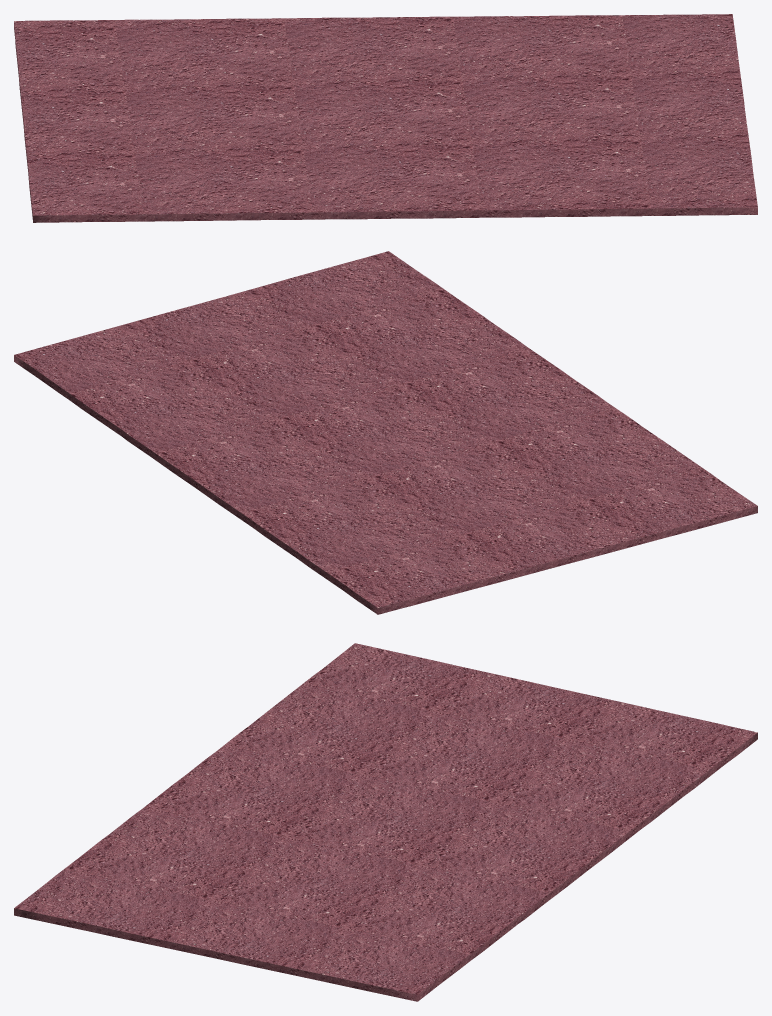
The picture shows the model from 3 angles, top to bottom: view 1: azimuth 30°, elevation 25°; view 2: azimuth 150°, elevation 25°; view 3: azimuth 270°, elevation 25°; orthographic projection. The views are drawn at different scales.
Parts seen in each view (by area): view 1: QPART0; view 2: QPART0; view 3: QPART0.
Part boxes in pixels (bbox=[...]): QPART0: bbox=[14, 14, 757, 222]; QPART0: bbox=[14, 251, 757, 614]; QPART0: bbox=[14, 643, 757, 1001].
Size of the model in its own units: 11149 by 113 by 9970.
Materials: 1 (1 with a texture image).
